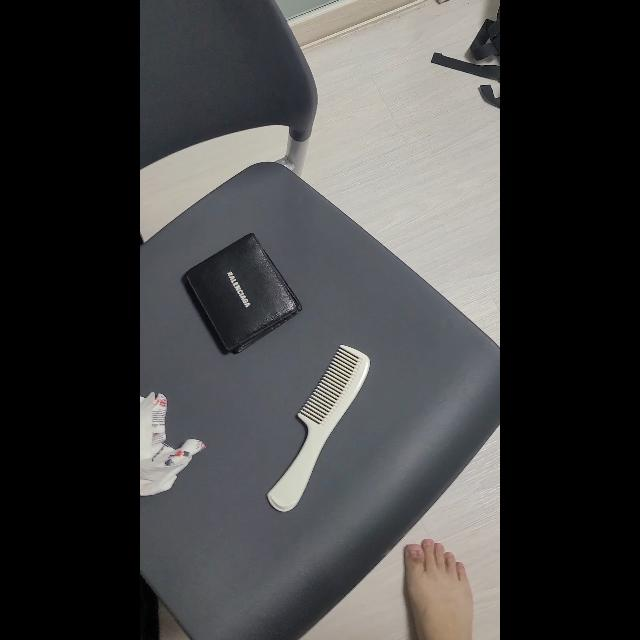COMB: (268, 344, 370, 512)
Glasses cleaning cloth: (140, 392, 206, 496)
WALLET: (185, 233, 303, 355)
